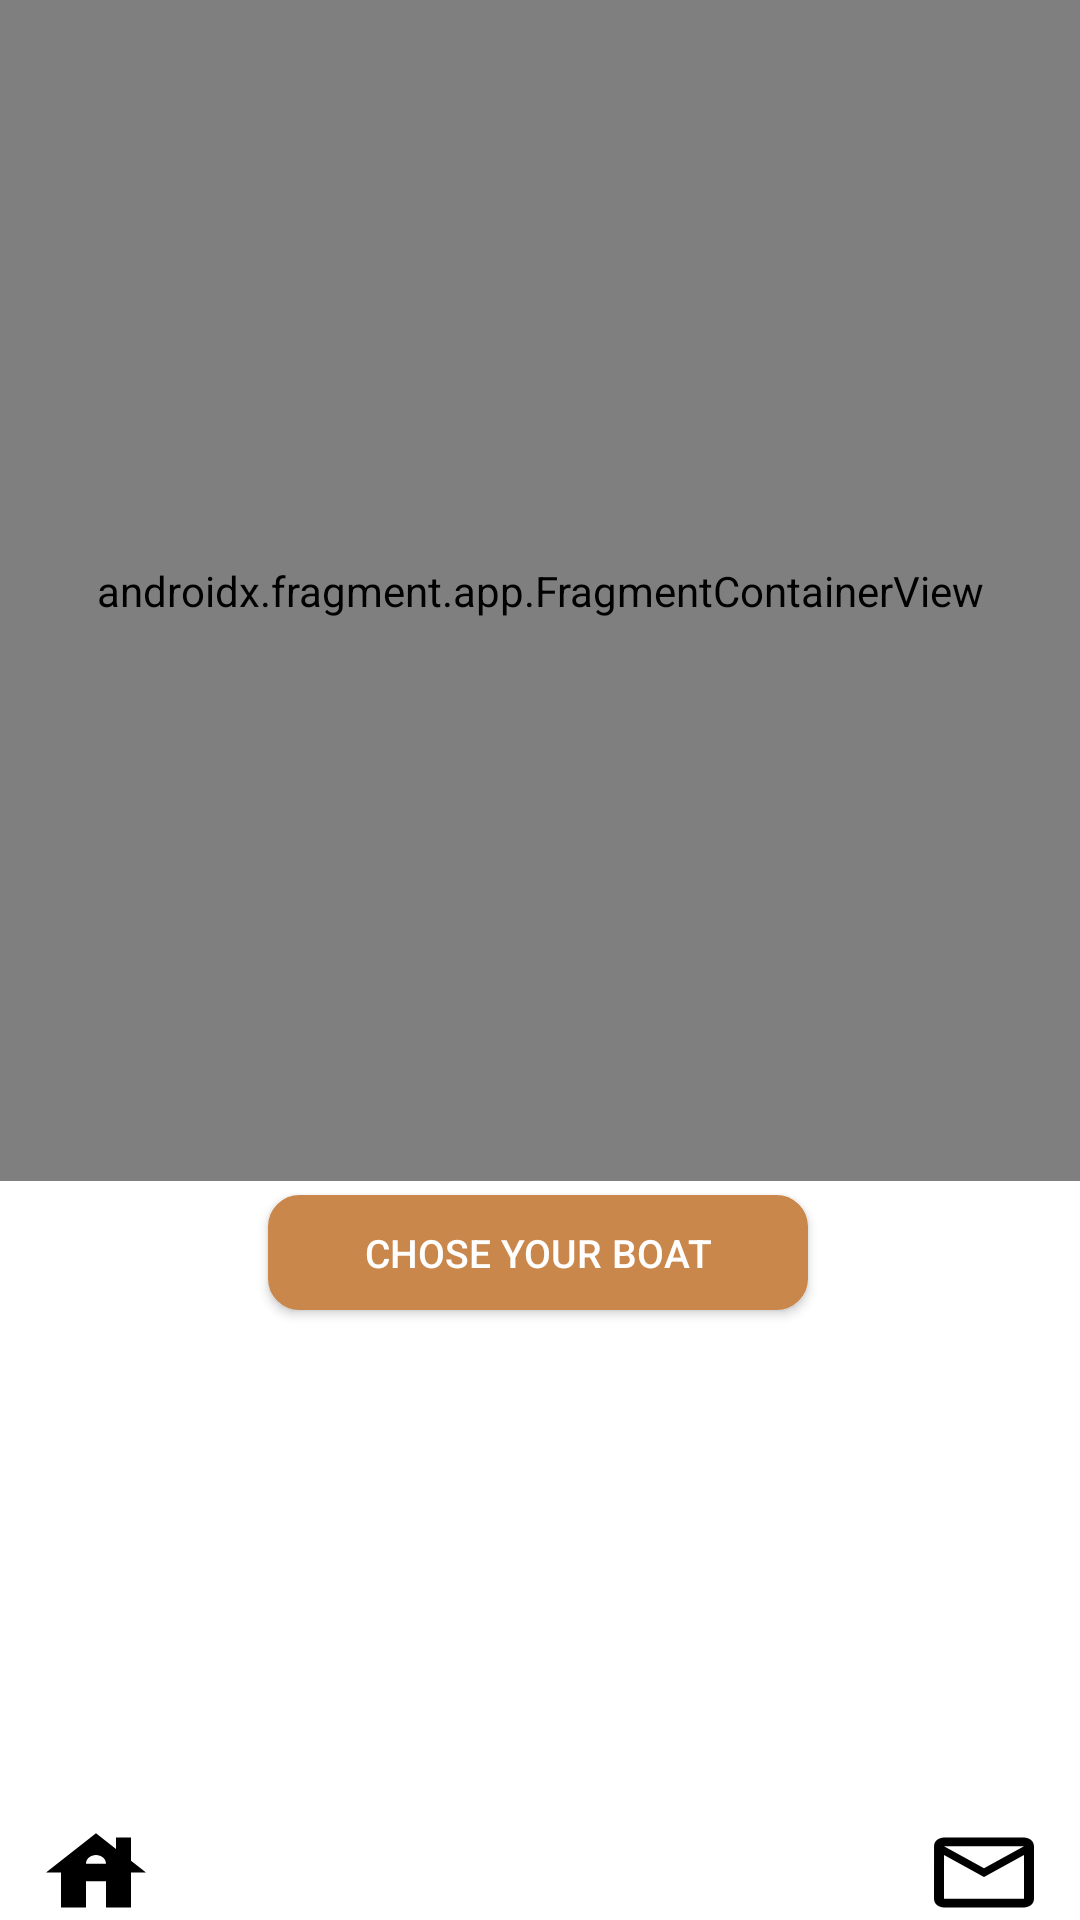

Where to tap for icons on this 1080 × 1920 app screen, as (x=x, y=y):
house: (x=96, y=1870)
mail: (x=984, y=1872)
